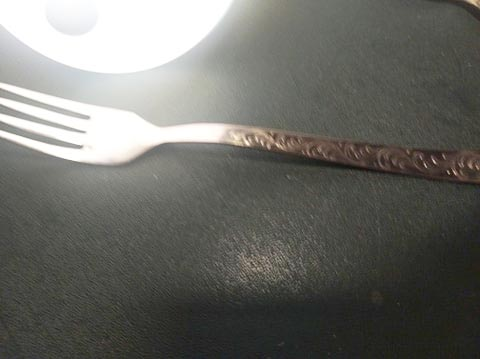Widelec: (1, 75, 165, 175)
